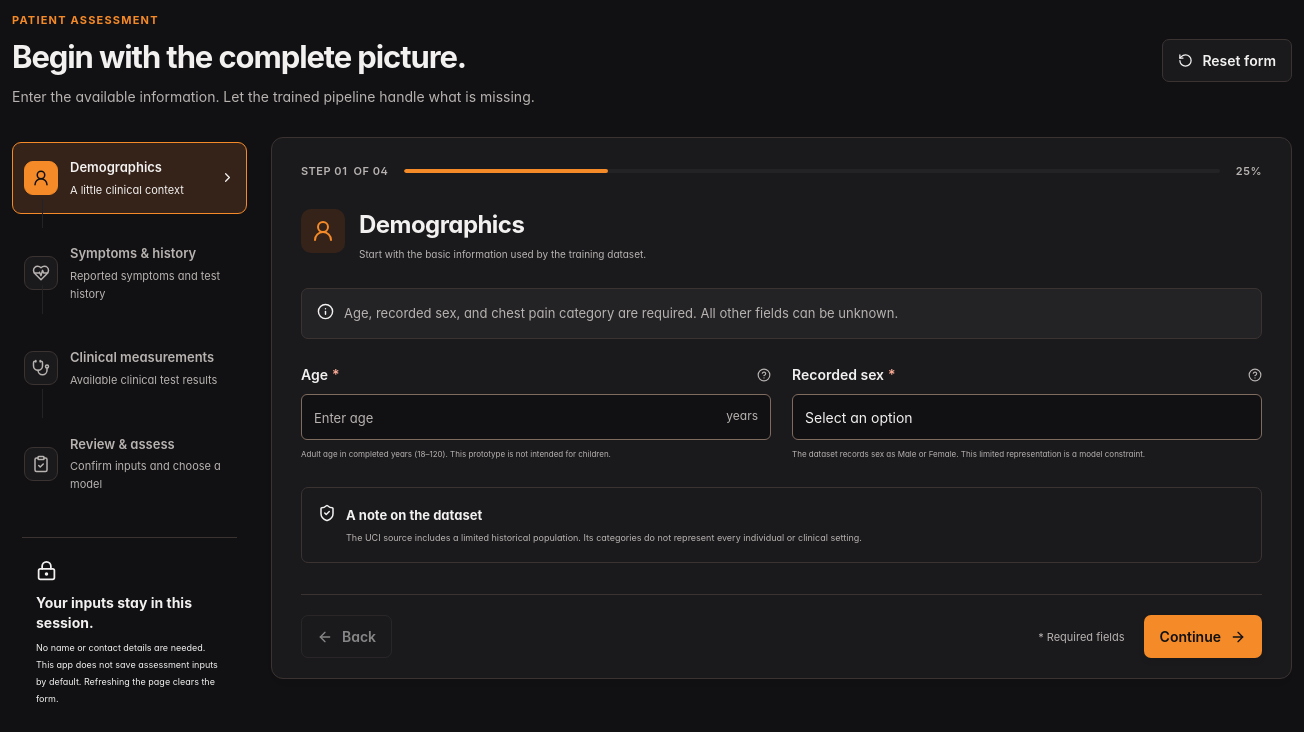
Test case: four-step assessment integration › resets every input to a blank value without requesting a prediction
The width and height of the screenshot is (1304, 732).
In the number field labelled "Age *": (536, 418) x1=301 y1=394 x2=771 y2=440, type "59"
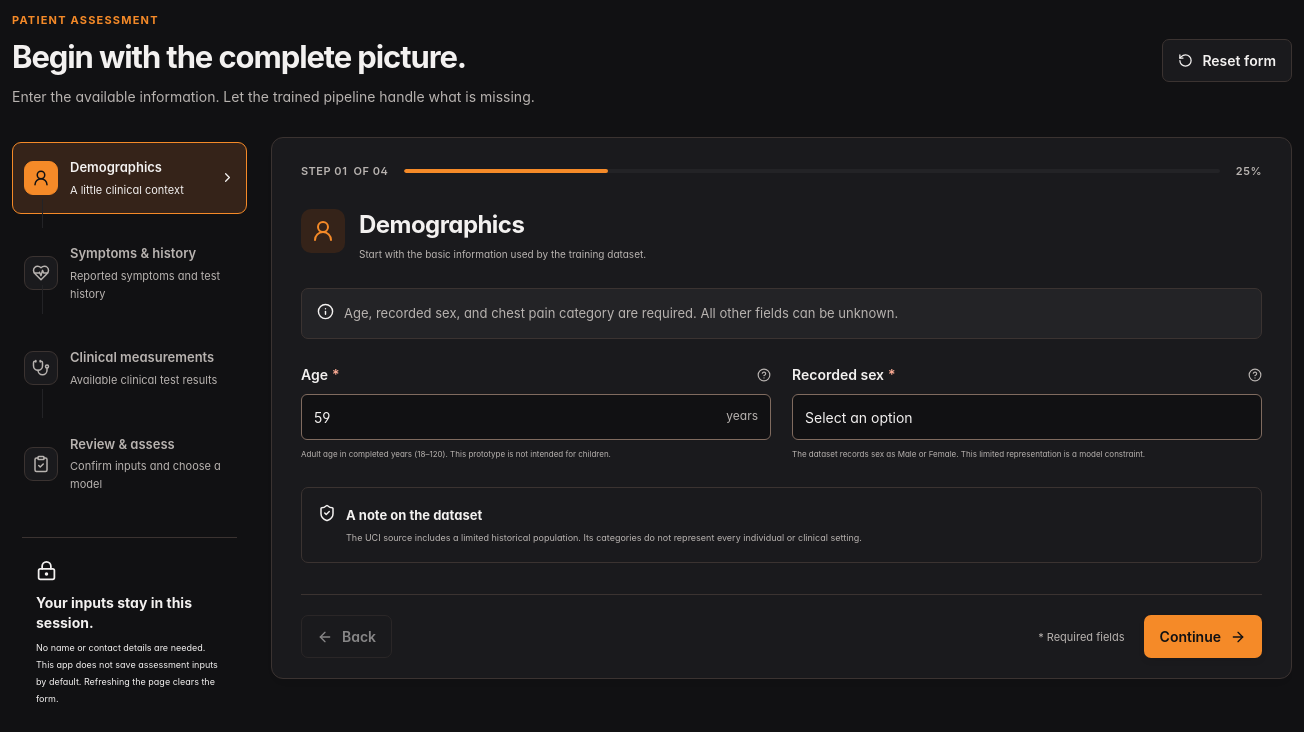
Click the button "Reset form": (1227, 61) x1=1162 y1=39 x2=1292 y2=82
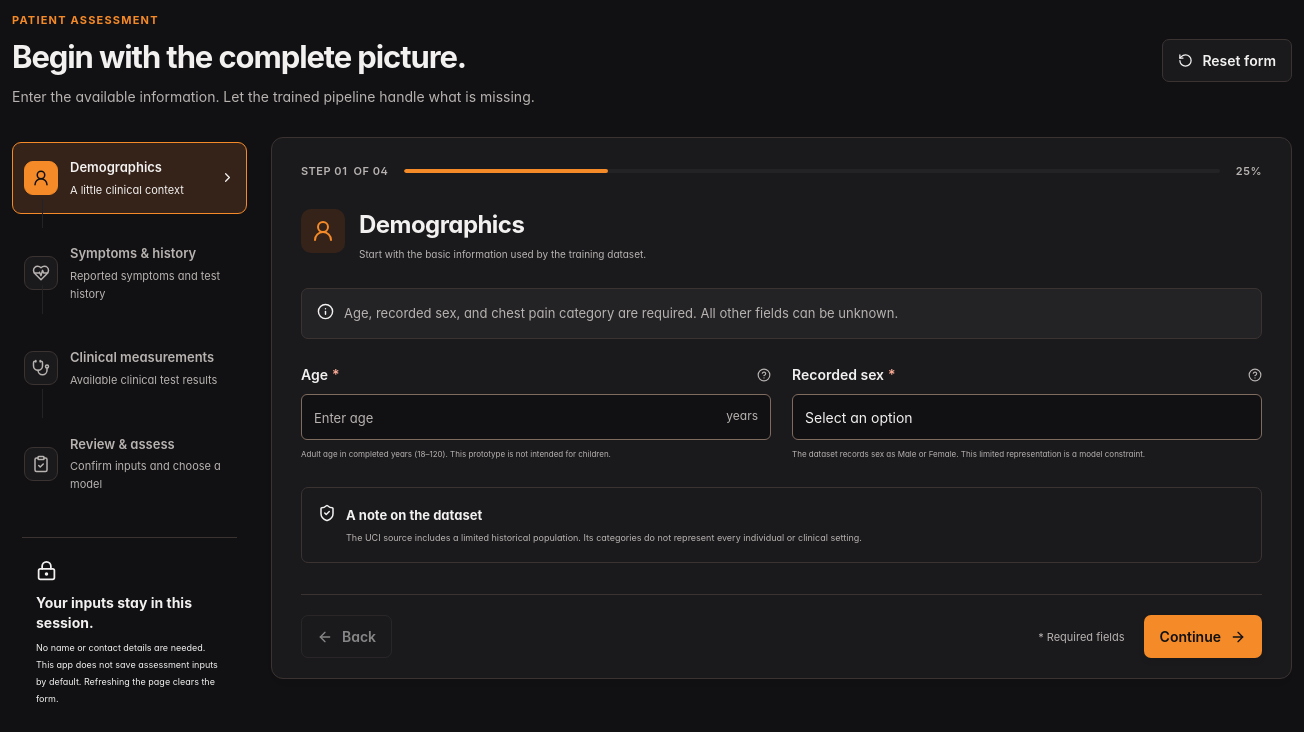
Expected: the dropdown labelled "Recorded sex *" shows "Select an option", x1=792 y1=394 x2=1262 y2=440
Expected: the number field labelled "Age *" is not empty, x1=301 y1=394 x2=771 y2=440
